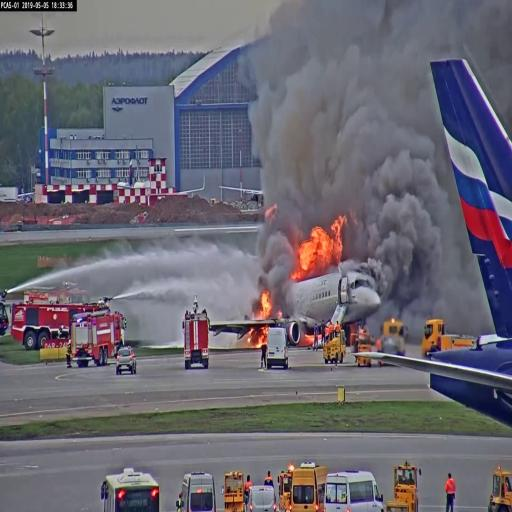fire: (293, 229, 340, 281)
smoke: (256, 0, 367, 215), (365, 140, 442, 297)
